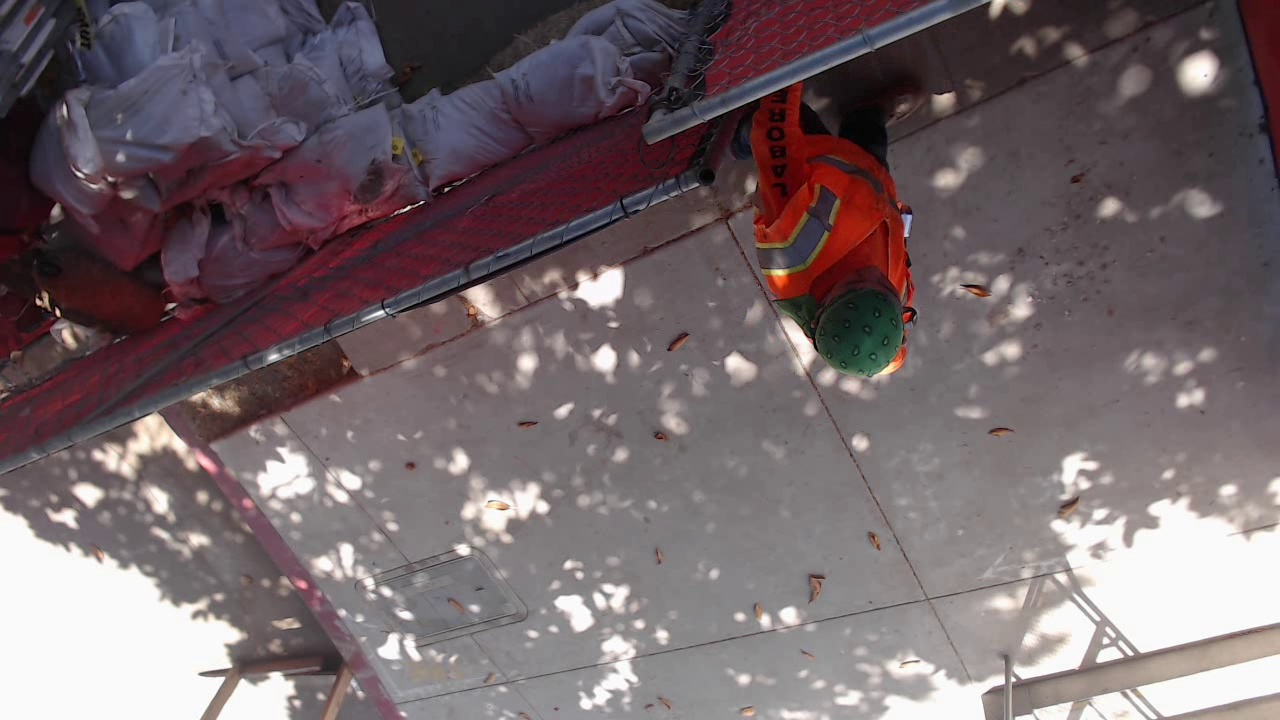hardhat: (942, 556, 1104, 699)
person: (744, 373, 1103, 699)
red: (997, 625, 1066, 679)
safetyvest: (743, 354, 953, 647)
